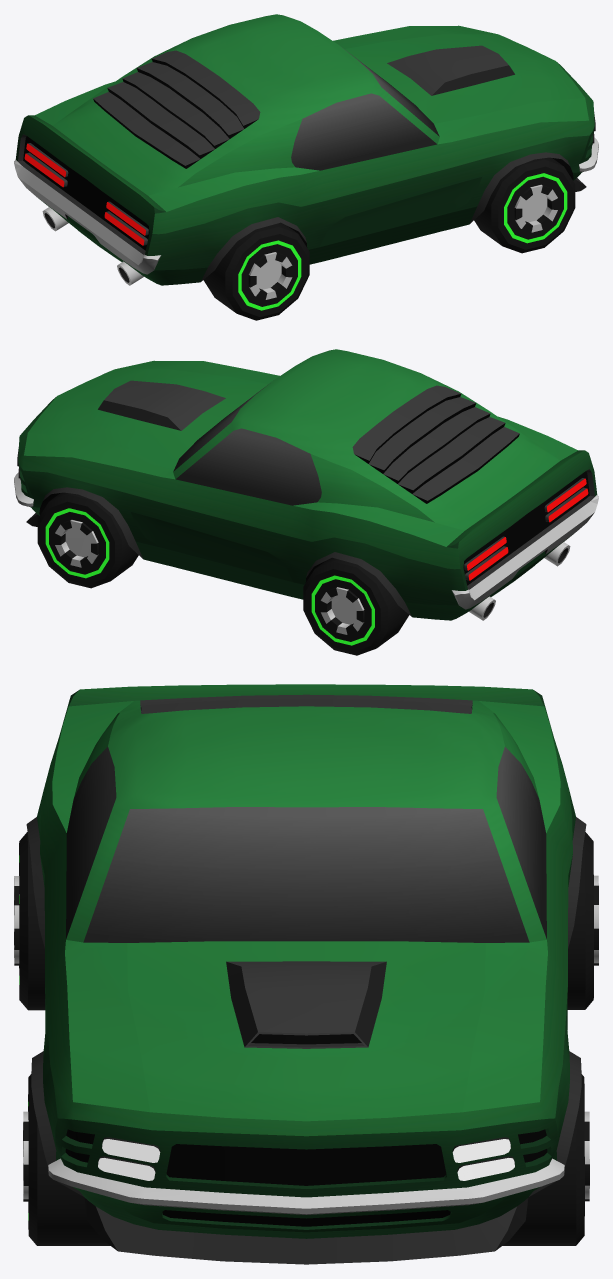
Rendered from Car_233.glb.
3 views of the same model, one above another, from view 1: azimuth 30°, elevation 25°; view 2: azimuth 150°, elevation 25°; view 3: azimuth 270°, elevation 25° (orthographic). The views are drawn at different scales.
Parts seen in each view (by area): view 1: Car_233, wheel_3_Car_233_Wheel_2R, wheel_1_Car_233_Wheel_1R; view 2: Car_233, wheel_2_Car_233_Wheel_2L, wheel_0_Car_233_Wheel_1L; view 3: Car_233, wheel_0_Car_233_Wheel_1L, wheel_1_Car_233_Wheel_1R, wheel_3_Car_233_Wheel_2R, wheel_2_Car_233_Wheel_2L.
Boxes of the visible parts, left/top/right/bottom form: Car_233: left=14, top=14, right=598, bottom=285; wheel_3_Car_233_Wheel_2R: left=203, top=222, right=309, bottom=320; wheel_1_Car_233_Wheel_1R: left=474, top=157, right=575, bottom=253; Car_233: left=14, top=349, right=598, bottom=620; wheel_2_Car_233_Wheel_2L: left=303, top=557, right=409, bottom=655; wheel_0_Car_233_Wheel_1L: left=37, top=492, right=138, bottom=588; Car_233: left=26, top=684, right=586, bottom=1264; wheel_0_Car_233_Wheel_1L: left=502, top=1074, right=589, bottom=1245; wheel_1_Car_233_Wheel_1R: left=23, top=1074, right=110, bottom=1245; wheel_3_Car_233_Wheel_2R: left=14, top=832, right=45, bottom=1010; wheel_2_Car_233_Wheel_2L: left=567, top=832, right=598, bottom=1009.
Size of the model in its own units: 3.64 by 1.33 by 2.11.
2 materials, 2 textured.
